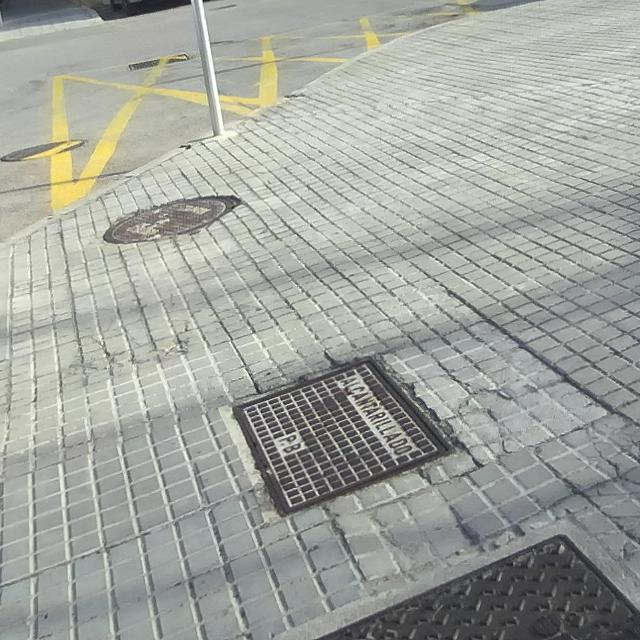calcada_quebrada: (456, 383, 513, 412), (587, 441, 621, 475), (487, 412, 510, 456), (89, 334, 113, 359)
